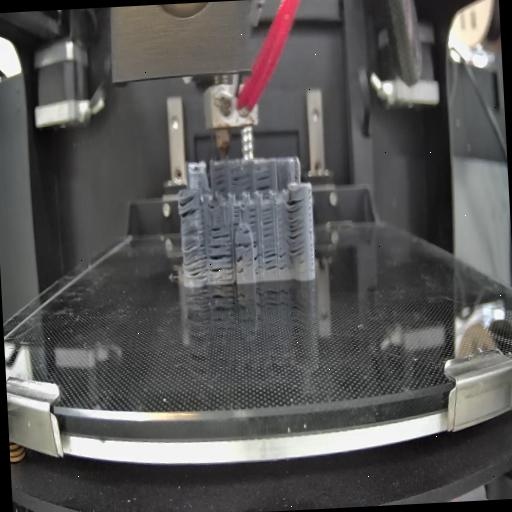cracks: (285, 196, 306, 262), (182, 227, 208, 280), (209, 242, 233, 282), (262, 206, 276, 239), (180, 195, 200, 218), (262, 244, 278, 272), (231, 172, 252, 192), (210, 224, 230, 240), (256, 174, 272, 192), (252, 240, 260, 274), (248, 205, 258, 228), (232, 206, 243, 226), (235, 255, 245, 275), (214, 178, 228, 192), (280, 250, 288, 274), (235, 240, 252, 250), (242, 230, 252, 236)
